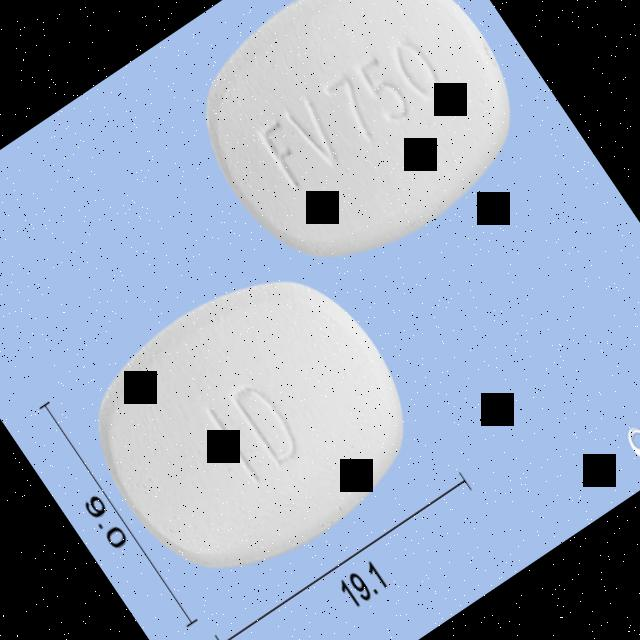Famvir -750mg: (56, 231, 448, 615), (162, 0, 553, 304)
